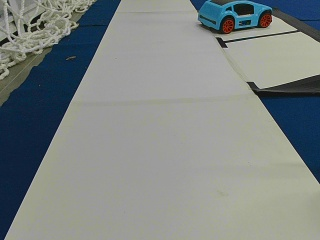car: (198, 2, 273, 33)
